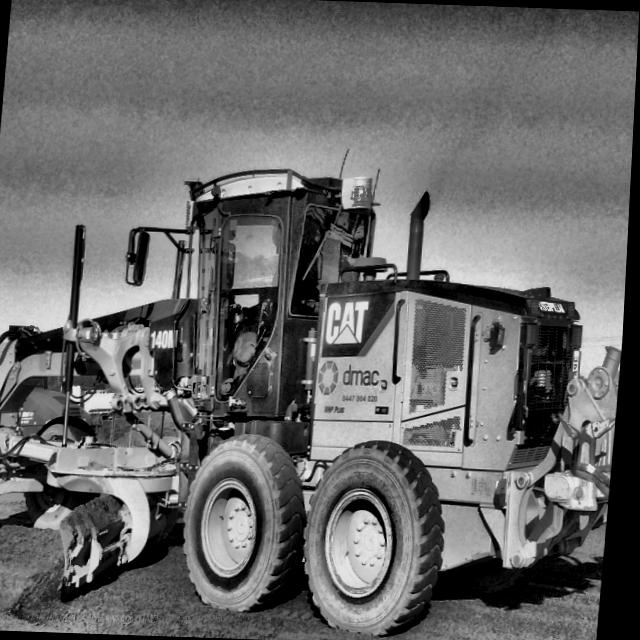buldozerpayloadergrader: (0, 154, 634, 640)
